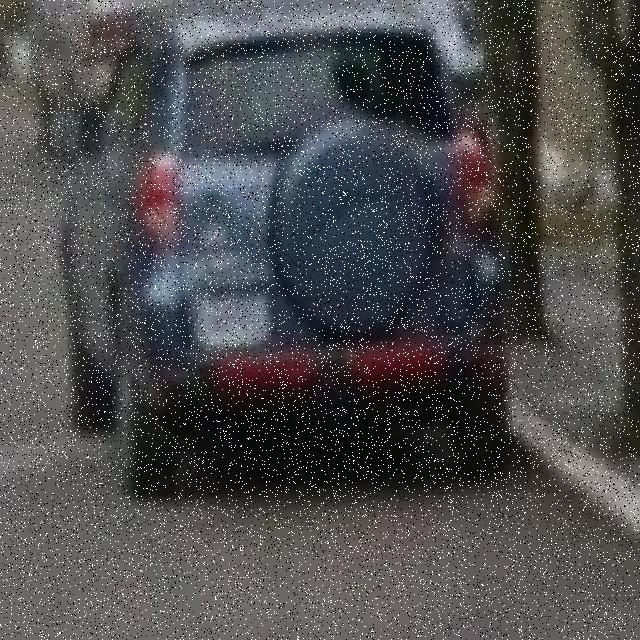cars: (54, 10, 518, 503)
